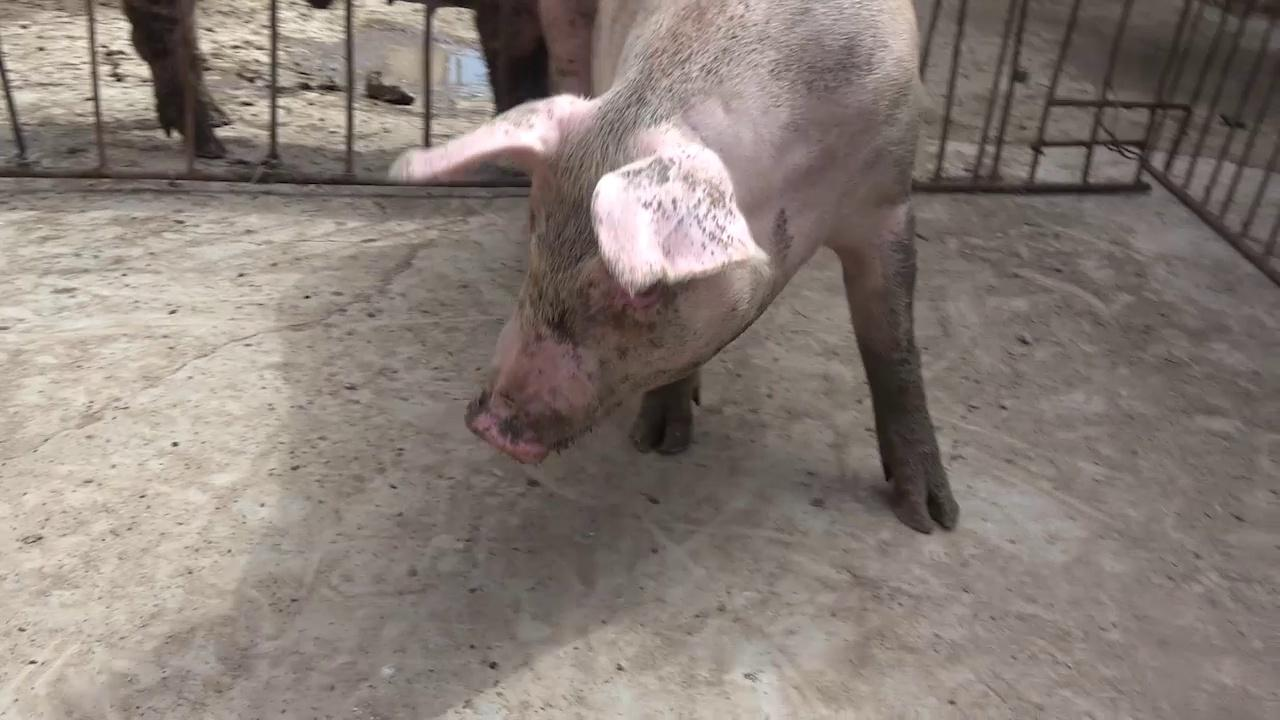Face: (386, 85, 764, 487)
